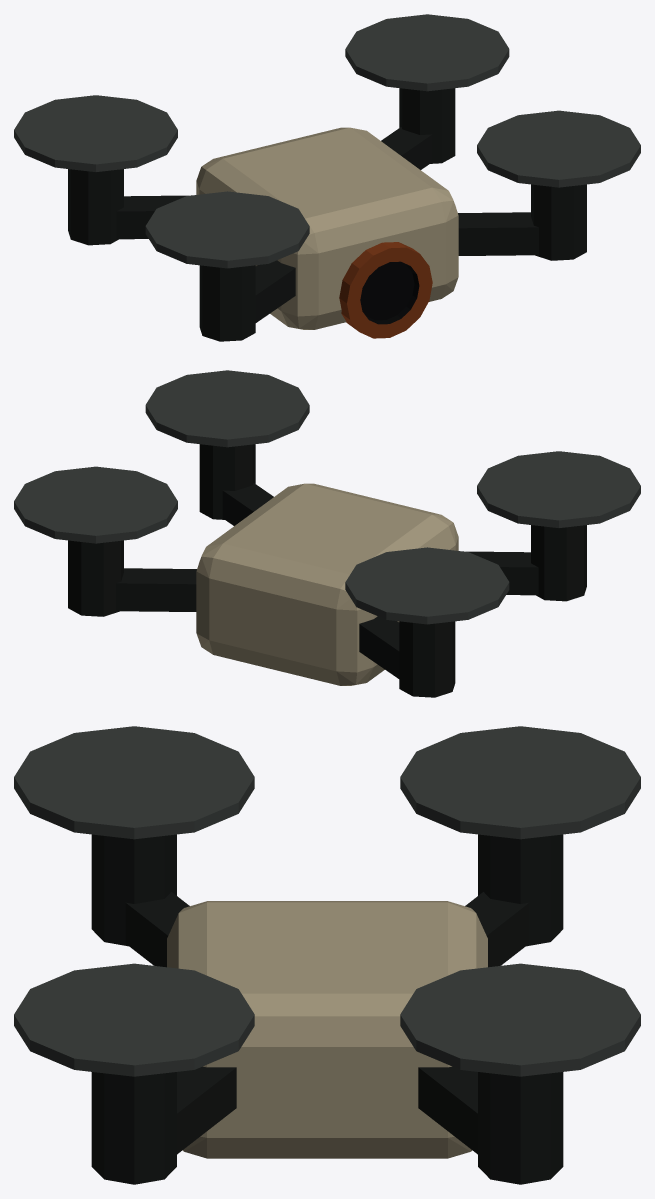
File: KH_VideoDrone.fbx
3 renders of one model, top to bottom at view 1: azimuth 30°, elevation 25°; view 2: azimuth 150°, elevation 25°; view 3: azimuth 270°, elevation 25°, orthographic. The views are drawn at different scales.
Visible parts, largest first — view 1: KH_VideoDrone; view 2: KH_VideoDrone; view 3: KH_VideoDrone.
Boxes of the visible parts, x1,y1,x2,y2 form: KH_VideoDrone: (14, 14, 640, 341); KH_VideoDrone: (14, 370, 640, 697); KH_VideoDrone: (14, 726, 640, 1184).
Size of the model in its own units: 0.32 by 0.1 by 0.25.
